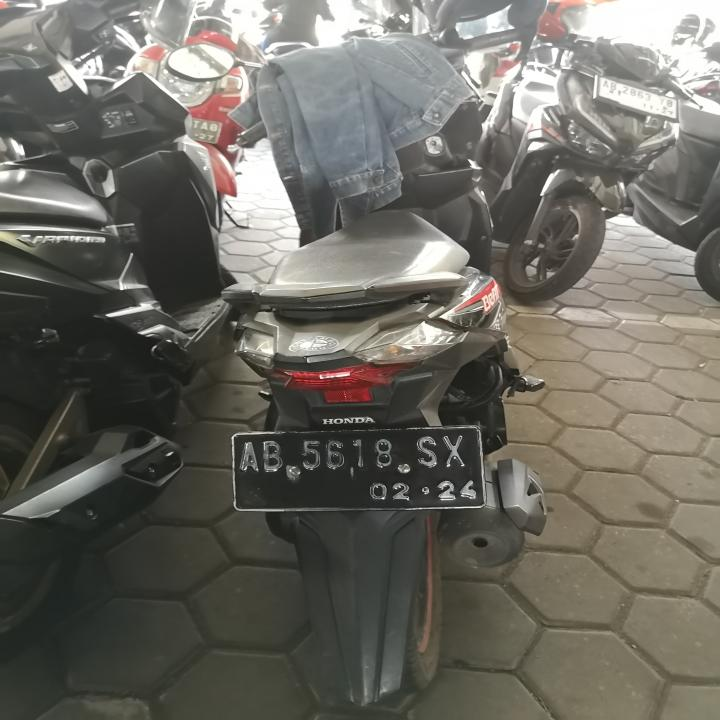plate: (229, 424, 489, 512), (594, 74, 679, 124)
